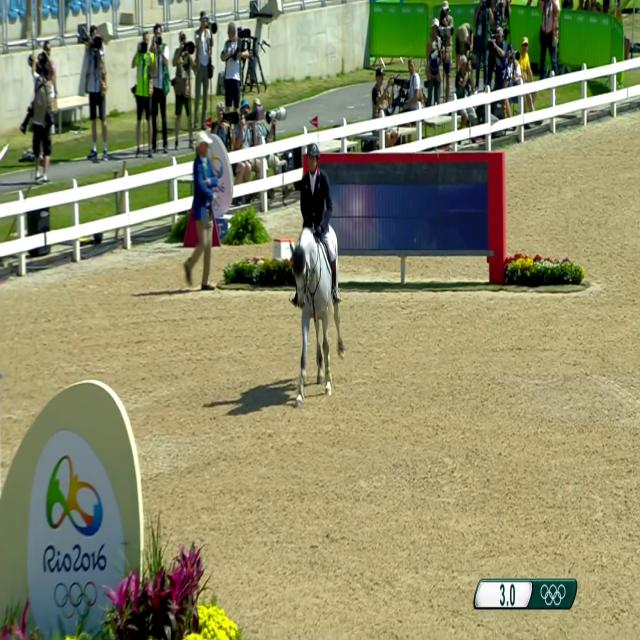Horse Rider: (294, 104, 332, 216)
Horse Running: (285, 196, 345, 397)
